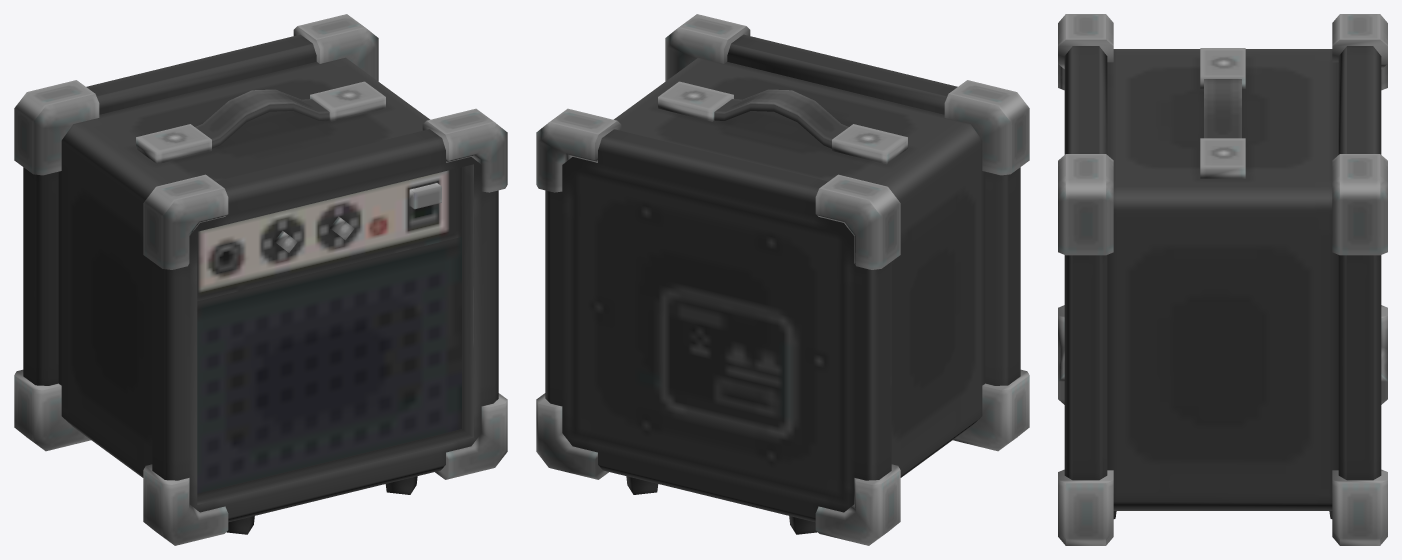
The model's file is int_oth_amp.dae.
3 views of the same model, side by side, from view 1: azimuth 30°, elevation 25°; view 2: azimuth 150°, elevation 25°; view 3: azimuth 270°, elevation 25° (orthographic). The views are drawn at different scales.
Parts seen in each view (by area): view 1: int_oth_amp; view 2: int_oth_amp; view 3: int_oth_amp.
Boxes of the visible parts, x1,y1,x2,y2 form: int_oth_amp: (14,14,507,545); int_oth_amp: (536,14,1029,545); int_oth_amp: (1058,14,1387,545).
Size of the model in its own units: 24.5 by 24.98 by 19.11.
Materials: 1 (1 with a texture image).
